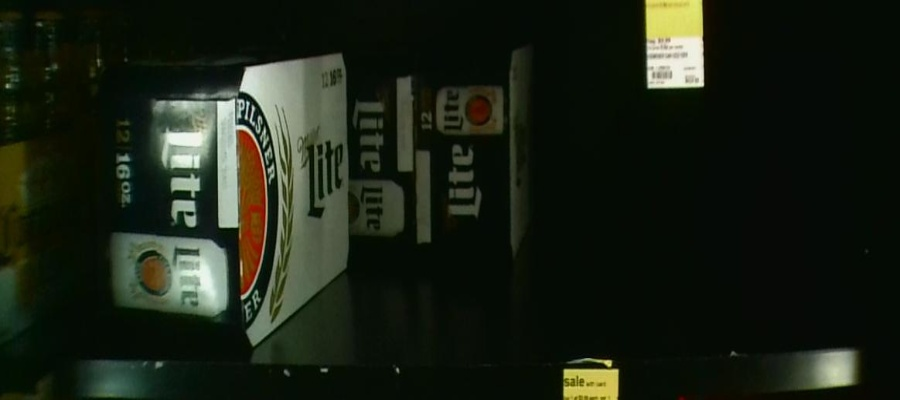bottle: (99, 58, 343, 330), (435, 50, 530, 260), (352, 55, 428, 260)
